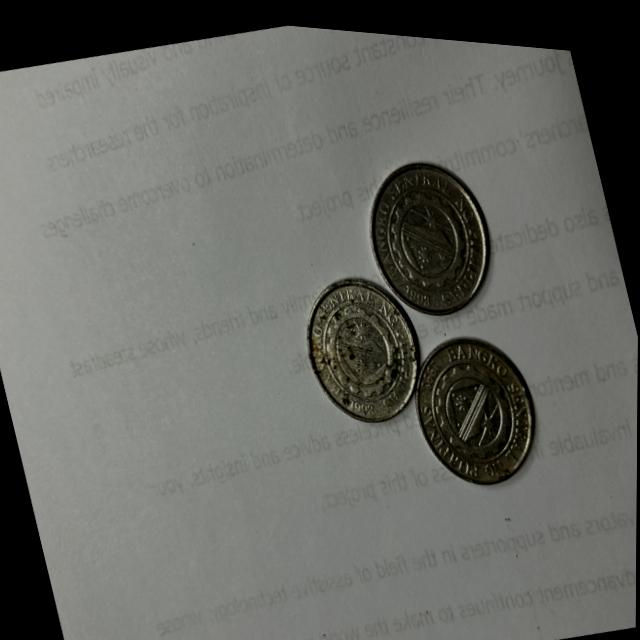1_Old_Back: (416, 331, 532, 471), (375, 167, 487, 300), (313, 287, 416, 412)
